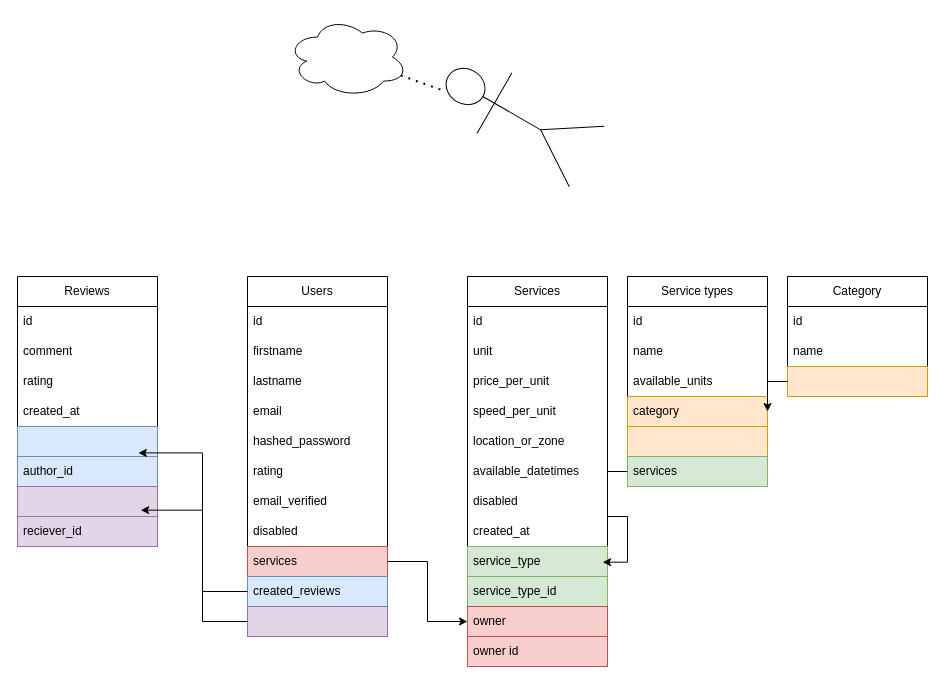
Some shapes in this 945 by 685 pixel diagram are drawn without their labels. The centre of each missing label's shape, as x and y in pixels:
"author" belongs at point (87, 441).
"category_id" belongs at point (697, 441).
"received_reviews" belongs at point (317, 621).
"reciever" belongs at point (87, 501).
"service_types" belongs at point (857, 381).
"WTF is it?" belongs at point (347, 56).
